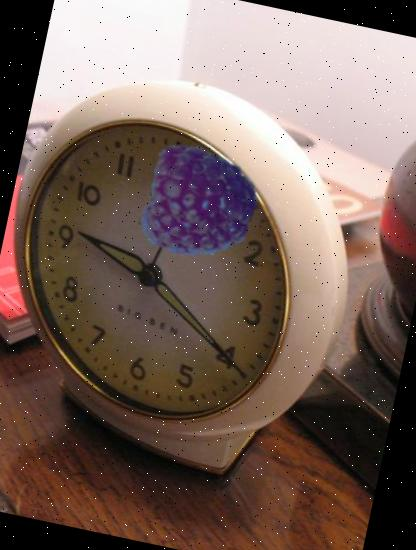Raspberry: (132, 138, 266, 272)
